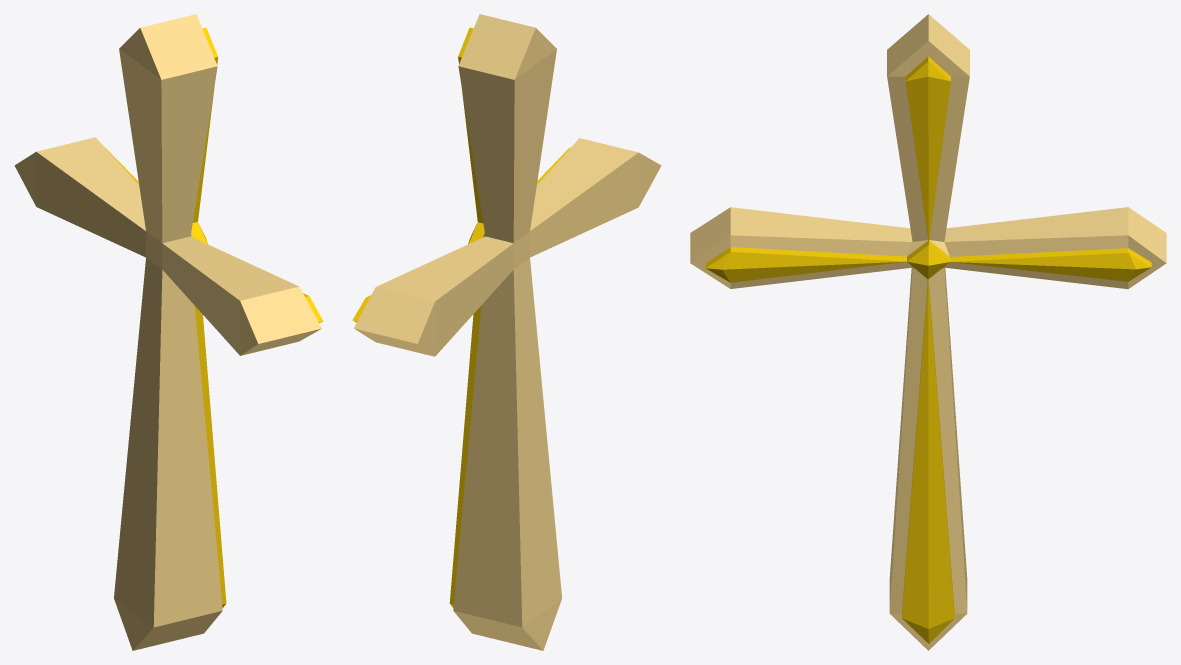
Rendered from Cross.fbx.
3 views of the same model, side by side, from view 1: azimuth 30°, elevation 25°; view 2: azimuth 150°, elevation 25°; view 3: azimuth 270°, elevation 25° (orthographic). The views are drawn at different scales.
Parts seen in each view (by area): view 1: Cube; view 2: Cube; view 3: Cube.
Part boxes in pixels (<box>): Cube: <box>14,14,323,650</box>; Cube: <box>352,14,661,650</box>; Cube: <box>690,14,1166,650</box>.
Size of the model in its own units: 14.3 by 100 by 71.27.
